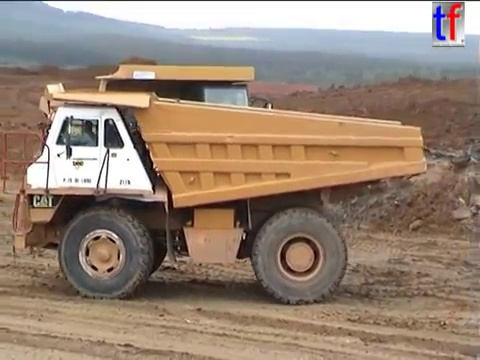truck: (1, 80, 429, 307), (36, 60, 275, 230)
